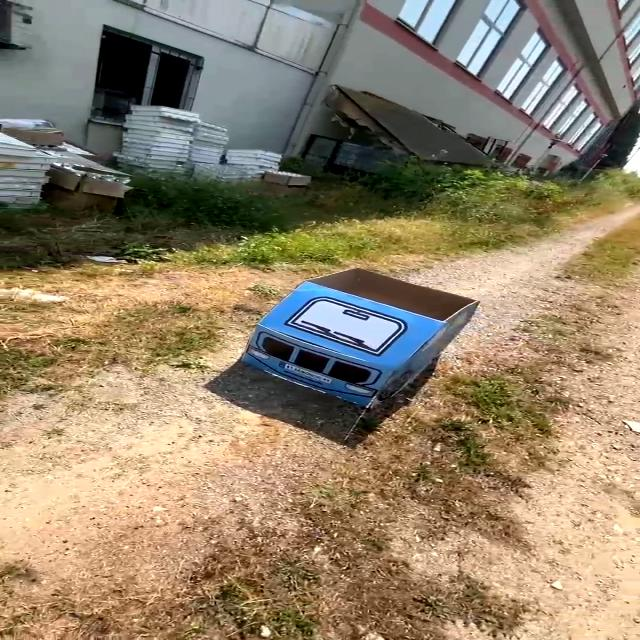blue_car: (231, 258, 481, 431)
